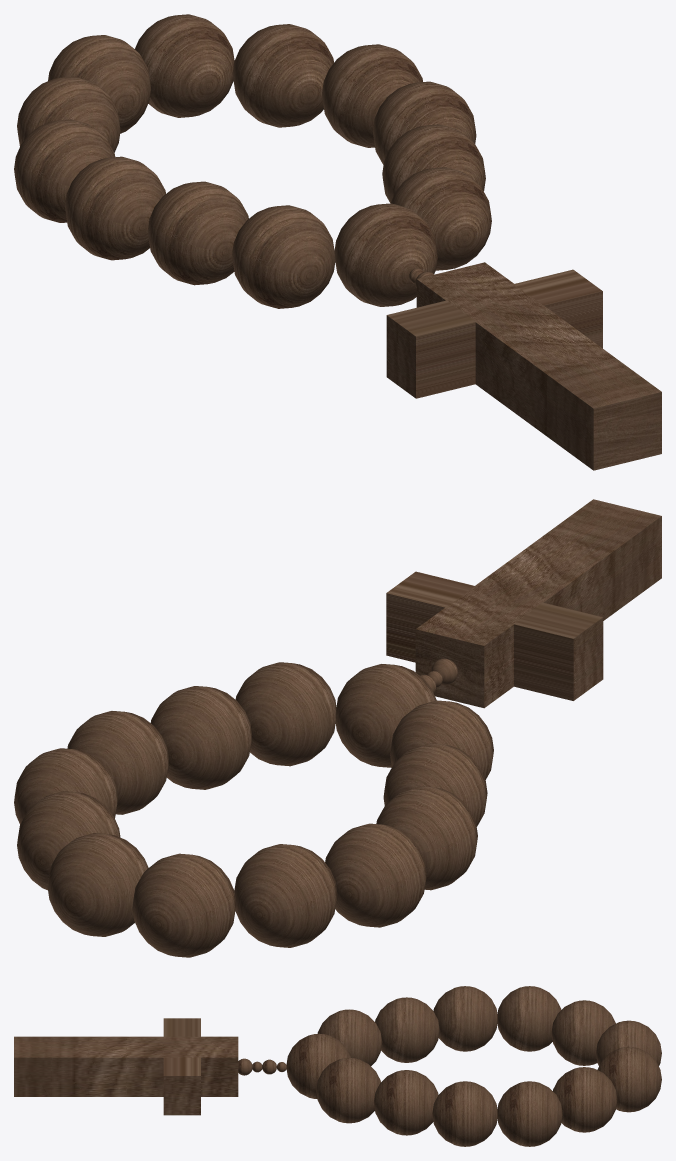
Rendered from NEWROSARYFBX.fbx.
3 renders of one model, top to bottom at view 1: azimuth 30°, elevation 25°; view 2: azimuth 150°, elevation 25°; view 3: azimuth 270°, elevation 25°, orthographic. The views are drawn at different scales.
Visible parts, largest first — view 1: Cross; view 2: Cross; view 3: Cross.
Part boxes in pixels (left/top/right/bottom): Cross: left=14, top=14, right=661, bottom=470; Cross: left=14, top=499, right=661, bottom=957; Cross: left=14, top=986, right=661, bottom=1146.
Bounding box in the file's own units: 0.4855 × 0.1101 × 1.08.
2 materials, 2 textured.
